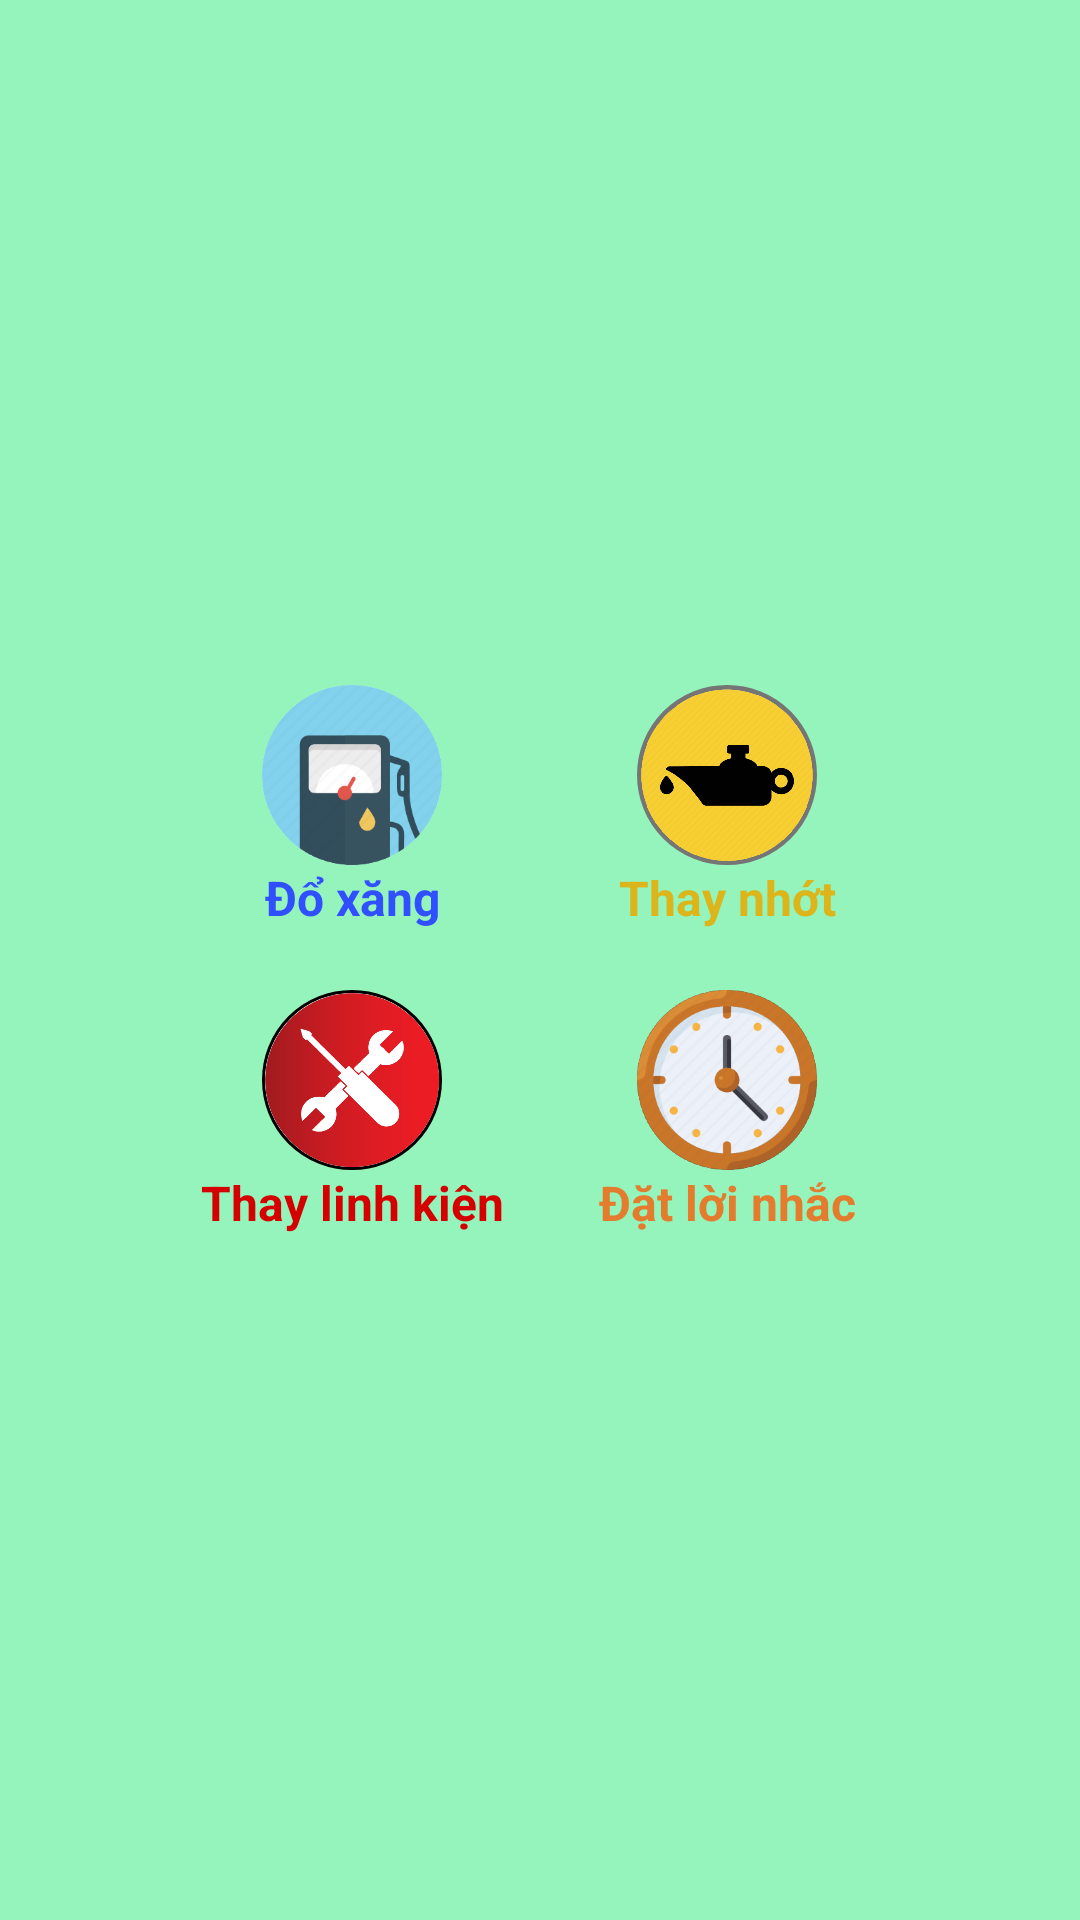

Icon click points for this 1080x1920 phone screenshot, format (x,y):
dungtichdo: (352,775)
time: (727,1080)
